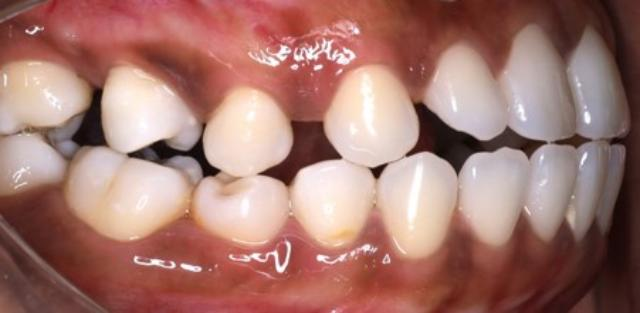canine class I: (289, 58, 461, 258)
molar class III full class: (0, 57, 192, 259)
